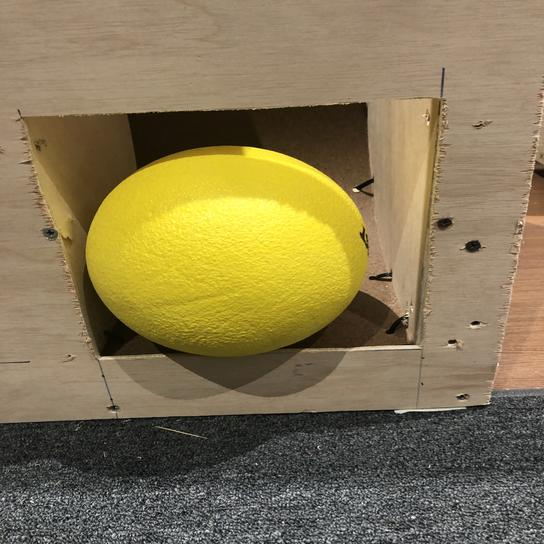ball: (83, 139, 373, 361)
